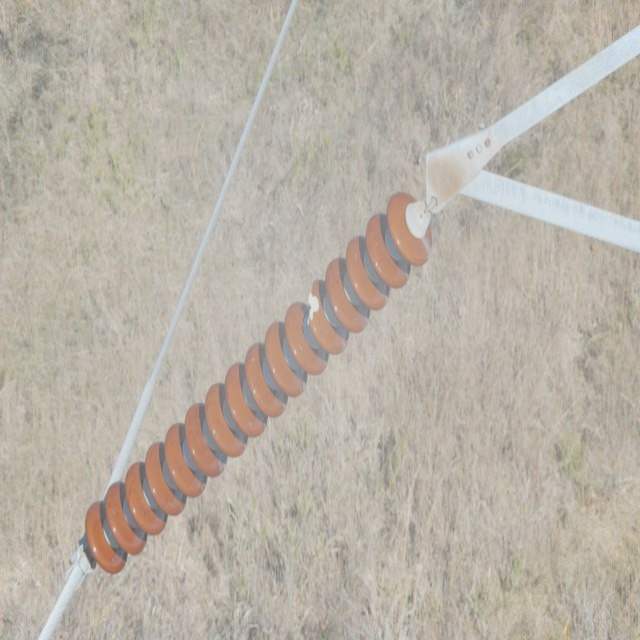broken: (302, 277, 322, 325)
insulator: (85, 192, 431, 570)
